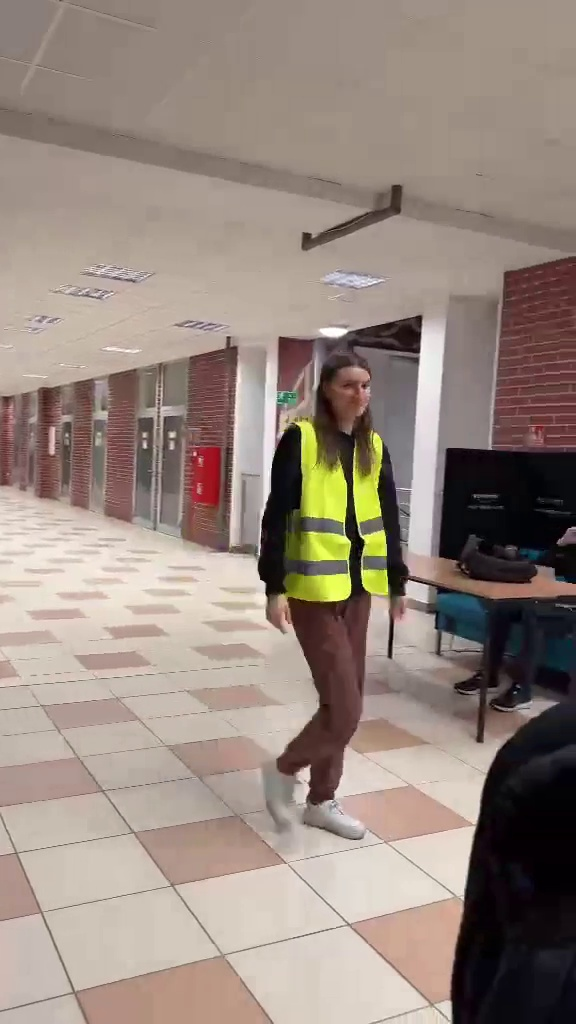vest: (261, 352, 410, 840)
